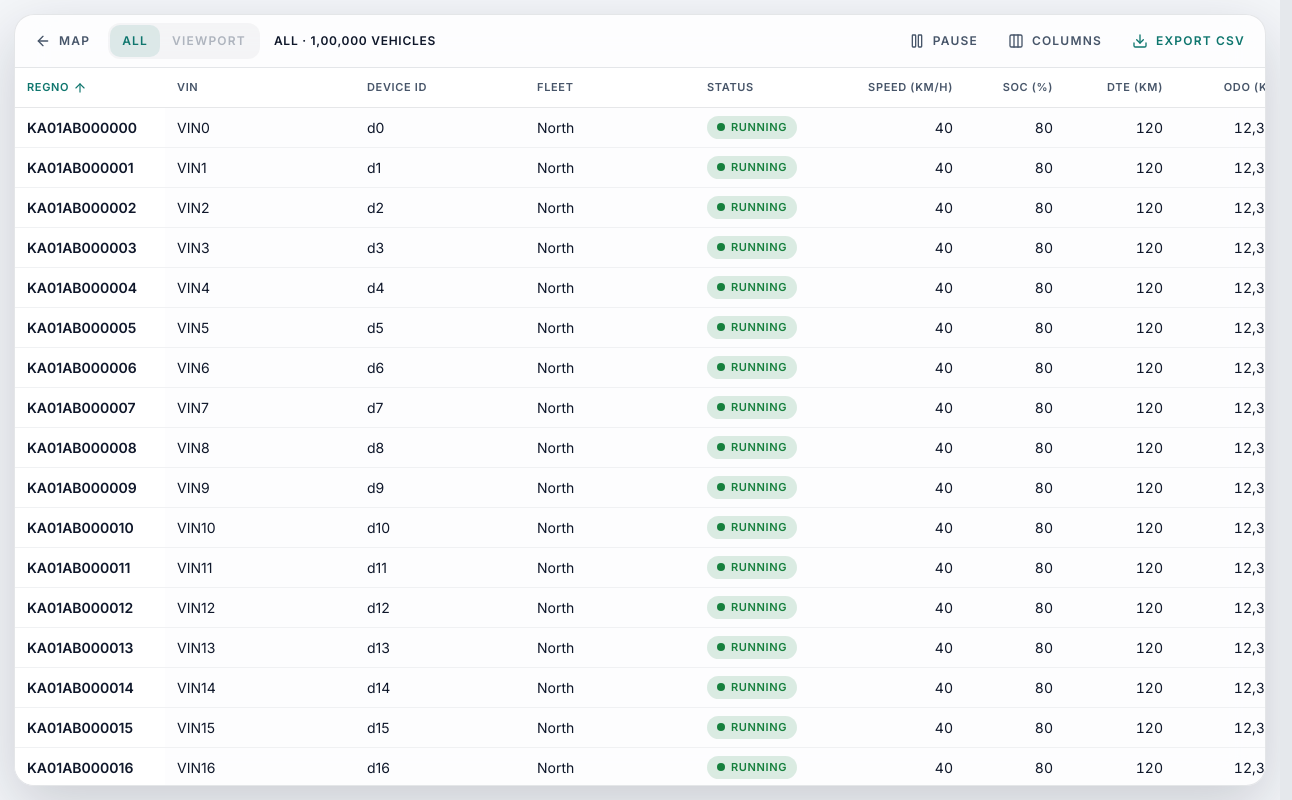
Test: F09-T5: table view › Pause freezes the window and counts the updates waiting
Expected: the text "KA01AB000000" is shown, [27,118,137,136]
What coordinates should you click on to do the following:
click the button with aria-label "Pause live updates"
I would click on:
 (943, 41)
Its box is [897,23,990,59].
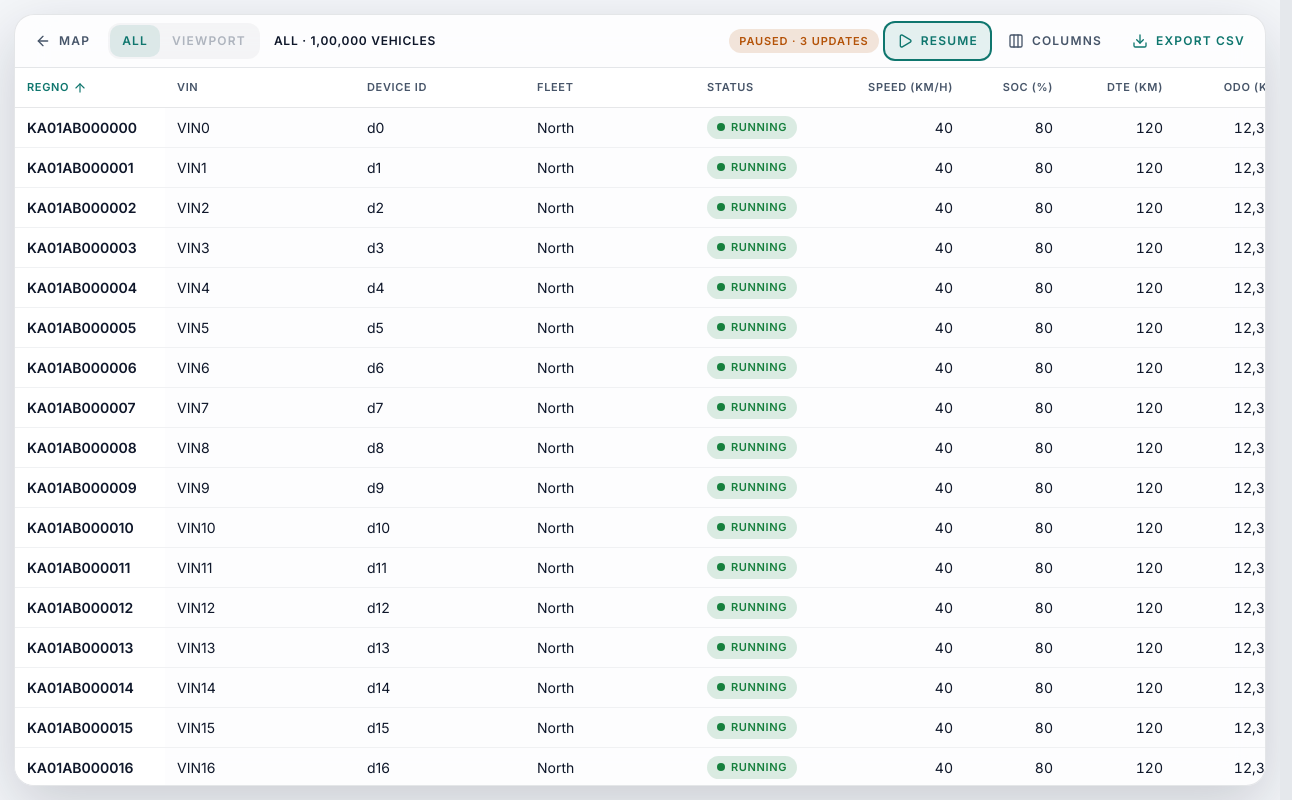
Now the text with test id "paused-badge" reads "Paused · 3 updates", box [729,29,879,53]
What coordinates should you click on to do the following:
click the button with aria-label "Resume live updates"
I would click on:
 (937, 41)
Its box is [885,23,990,59].
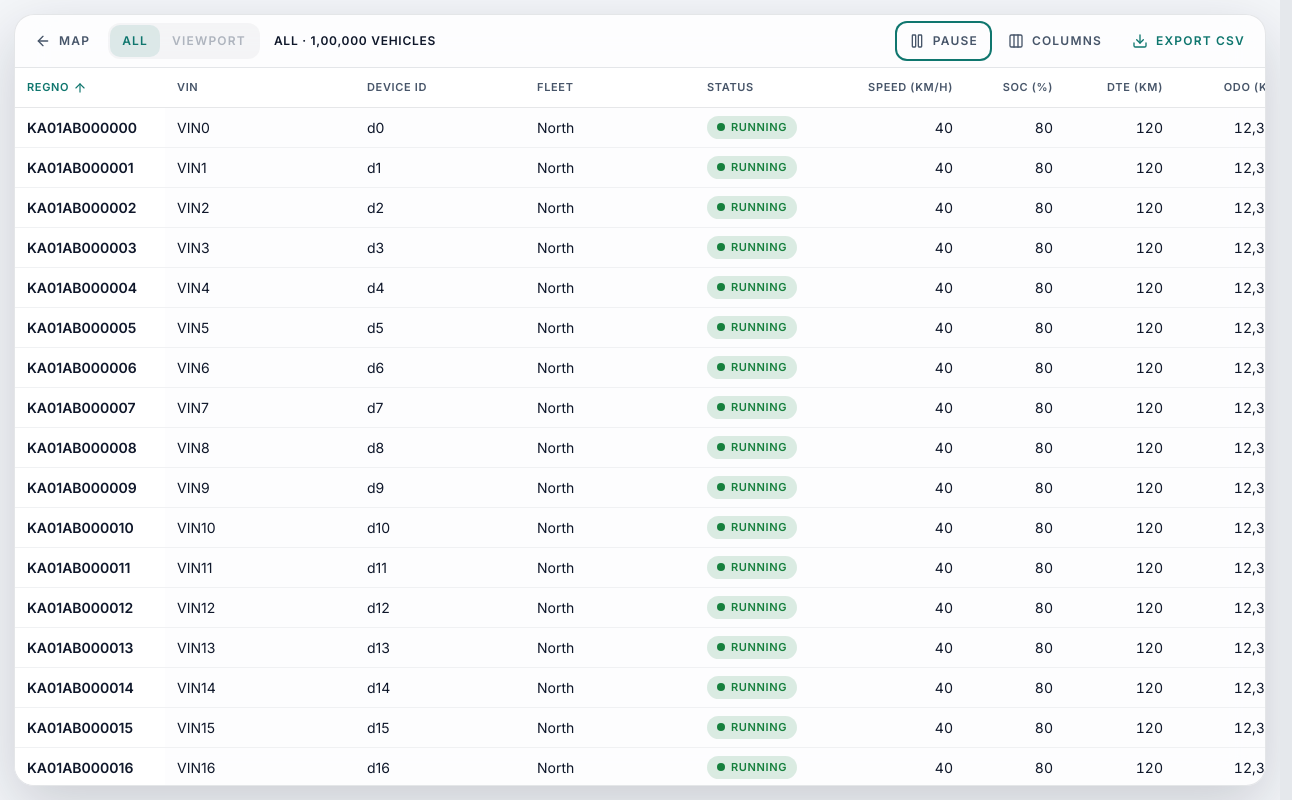
Now the text with test id "paused-badge" is gone
